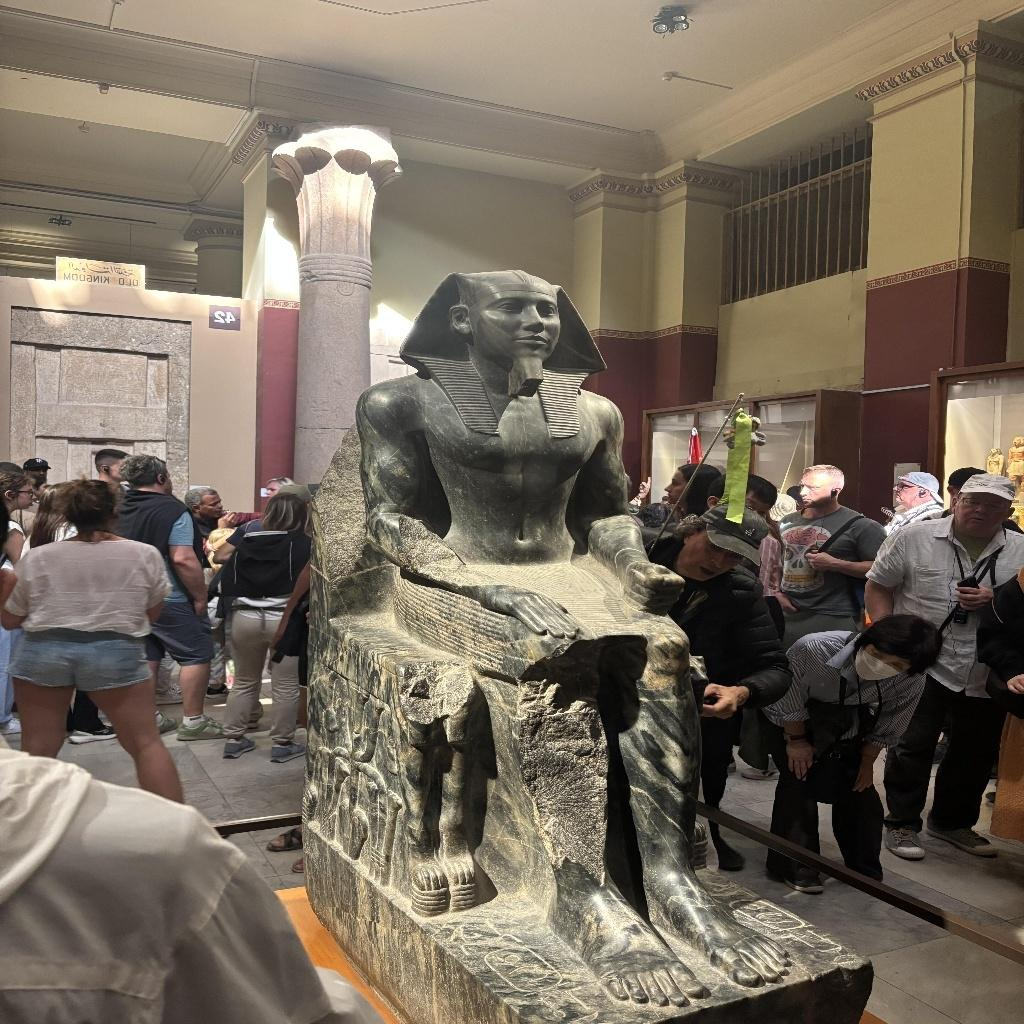Statue of Khafre: (330, 272, 874, 1014)
